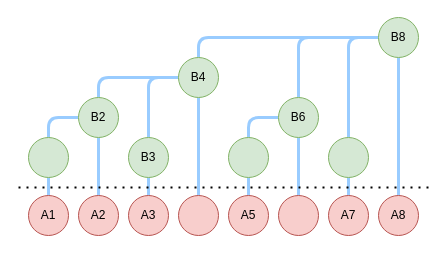
The diagram is 447 pixels wide and 253 high, and some of its shapes have lost their labels. Here are the shapes that lost their labels. From the top down, the centre of each, then its label:
At pixel 48 157: "B1".
At pixel 248 157: "B5".
At pixel 348 157: "B7".
At pixel 198 215: "A4".
At pixel 298 215: "A6".
